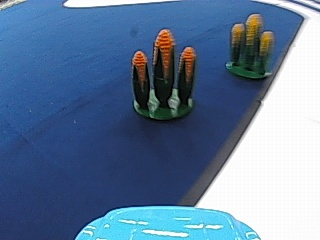corn: (128, 30, 200, 122), (224, 11, 275, 80)
